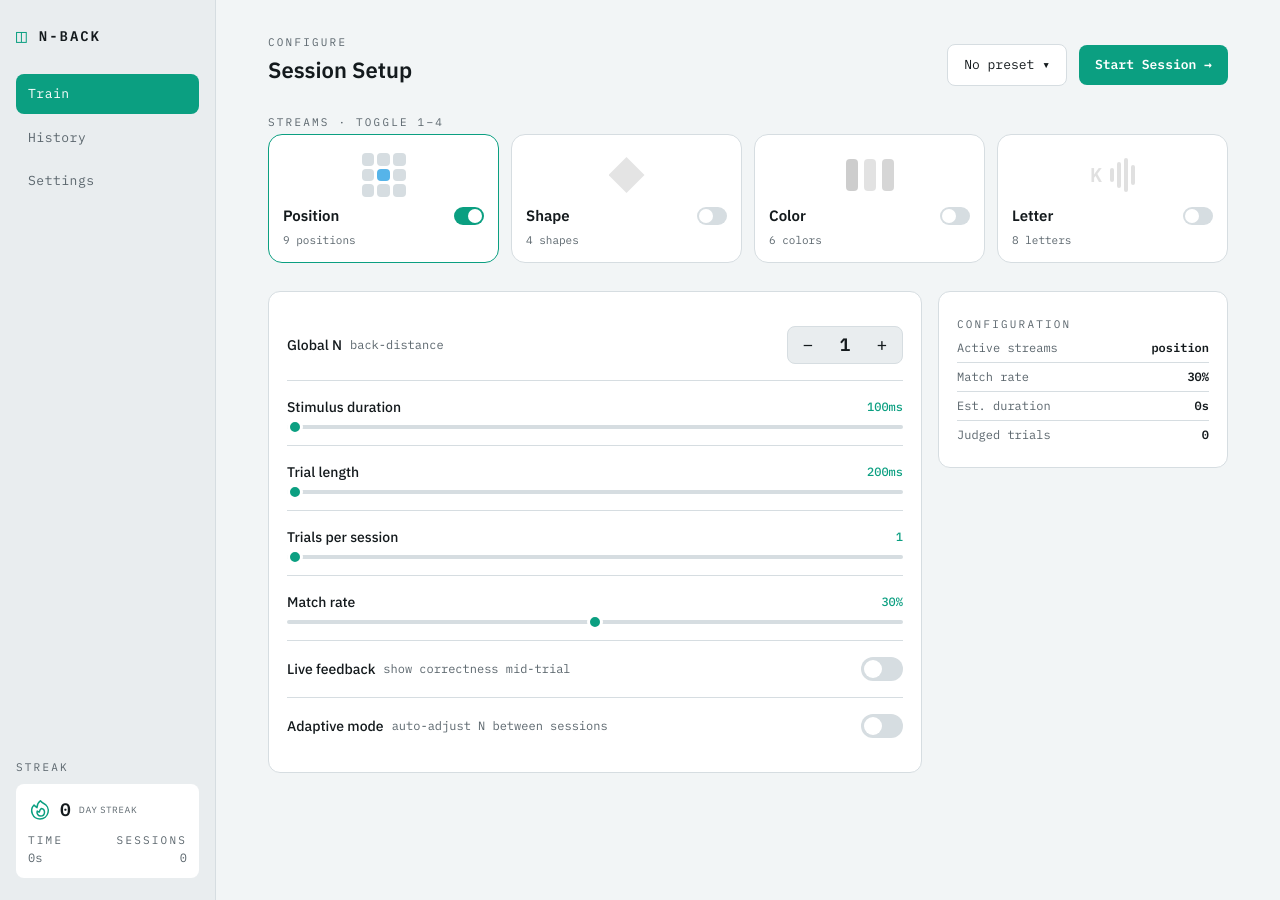
Test: App summary actions › starts a new session at the adjusted N when Play Again is clicked, with adaptive mode off
This screenshot has width=1280, height=900.
Click the button "Start Session →": (1154, 65) [1079,45,1228,84]
Wait 2200 ms
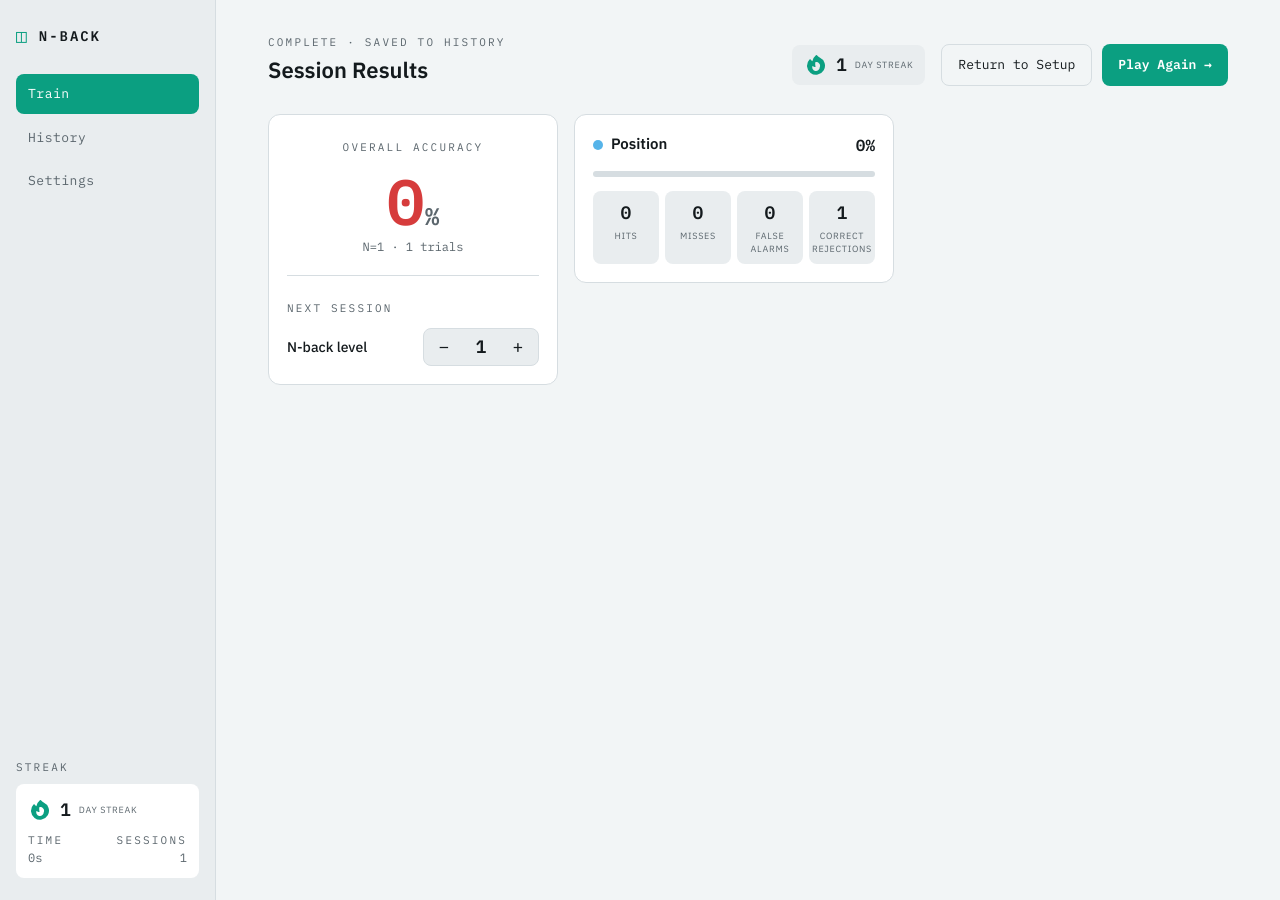
Expected: the heading "Session Results" is shown, [268,54,428,84]
Click the button named "increase n": (518, 346) [501,332,535,362]
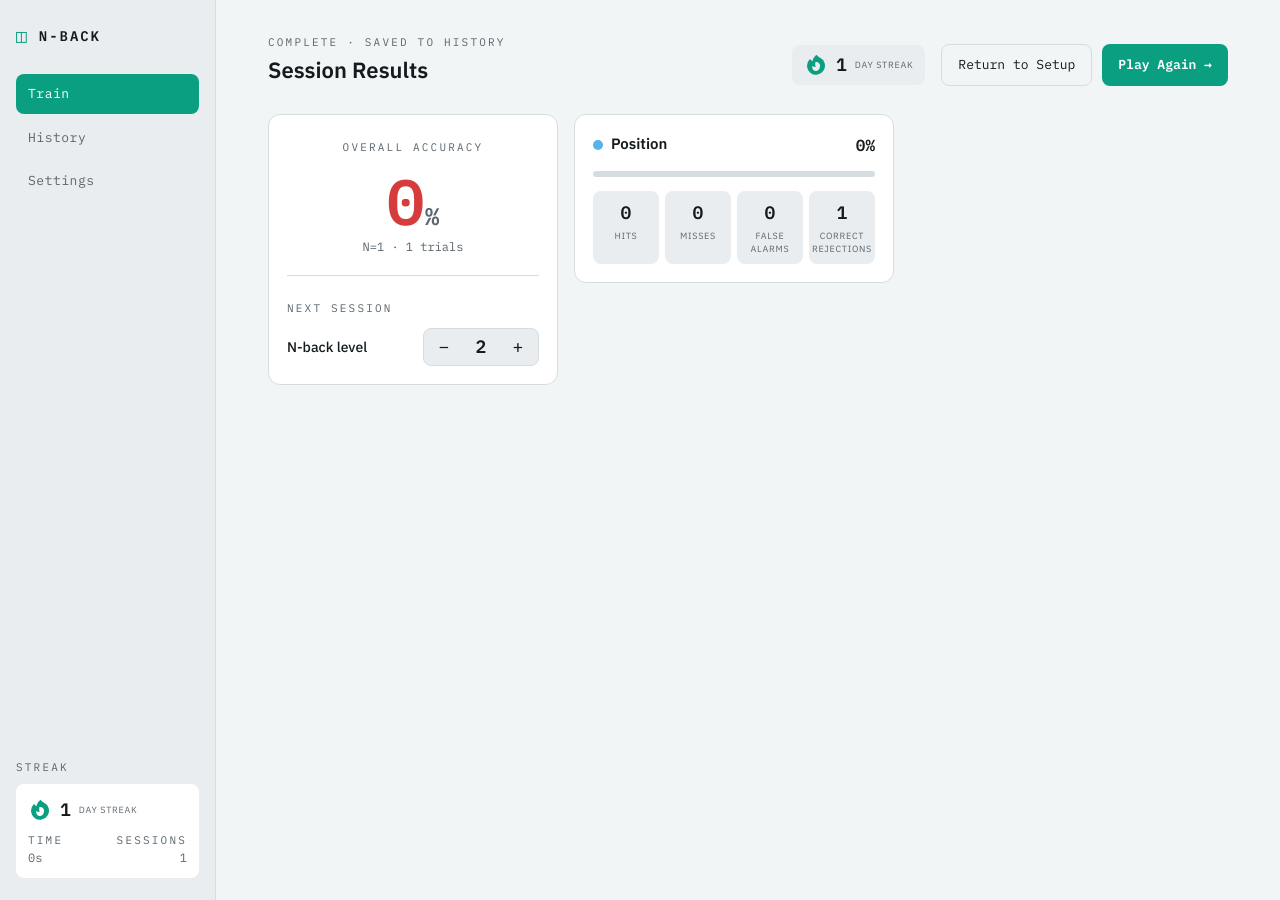
Click the button "Play Again →": (1165, 65) [1102,44,1228,86]
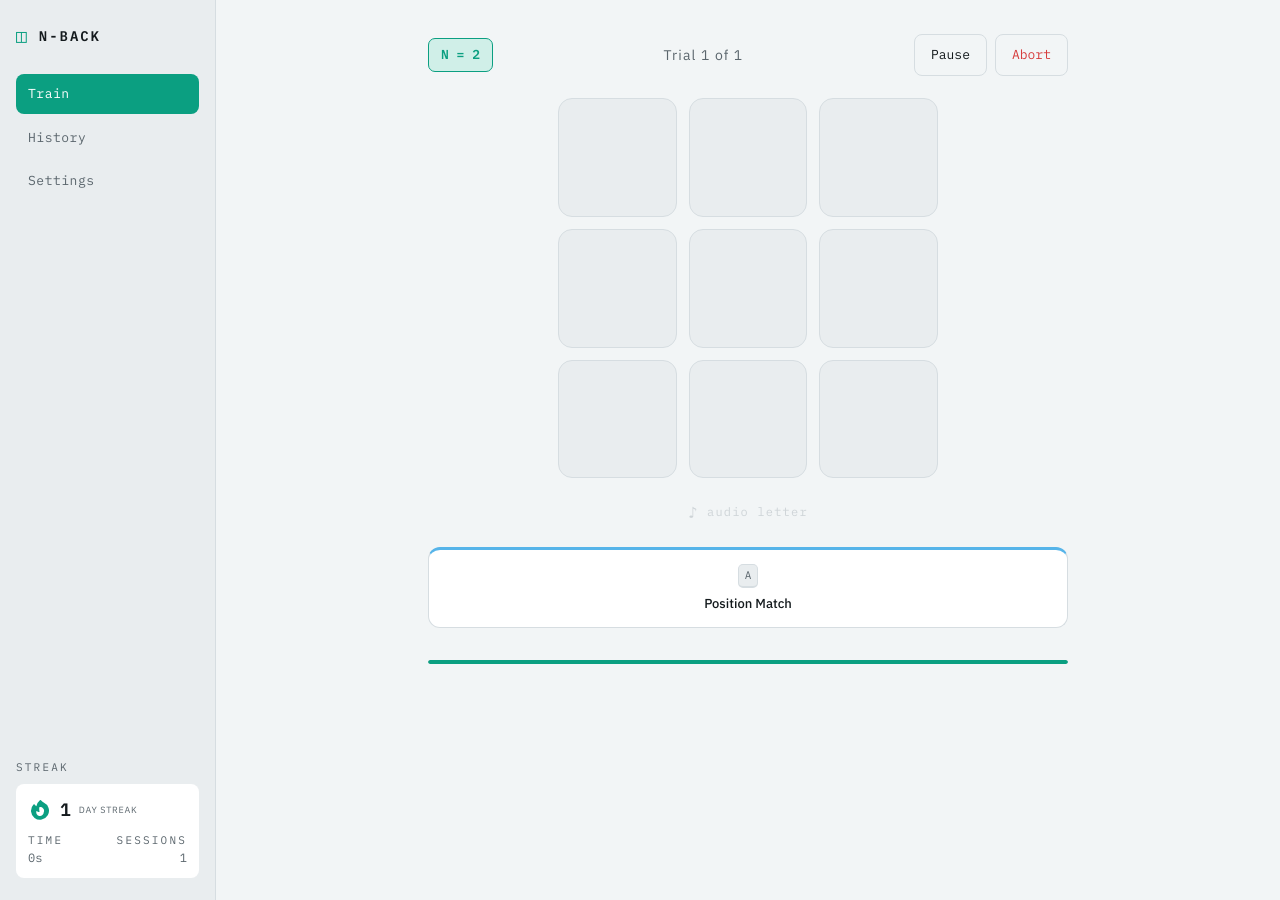
Expected: the text "N = 2" is shown, [428,38,493,72]
Expected: the text "Trial 1 of 1" is shown, [664,45,743,65]
